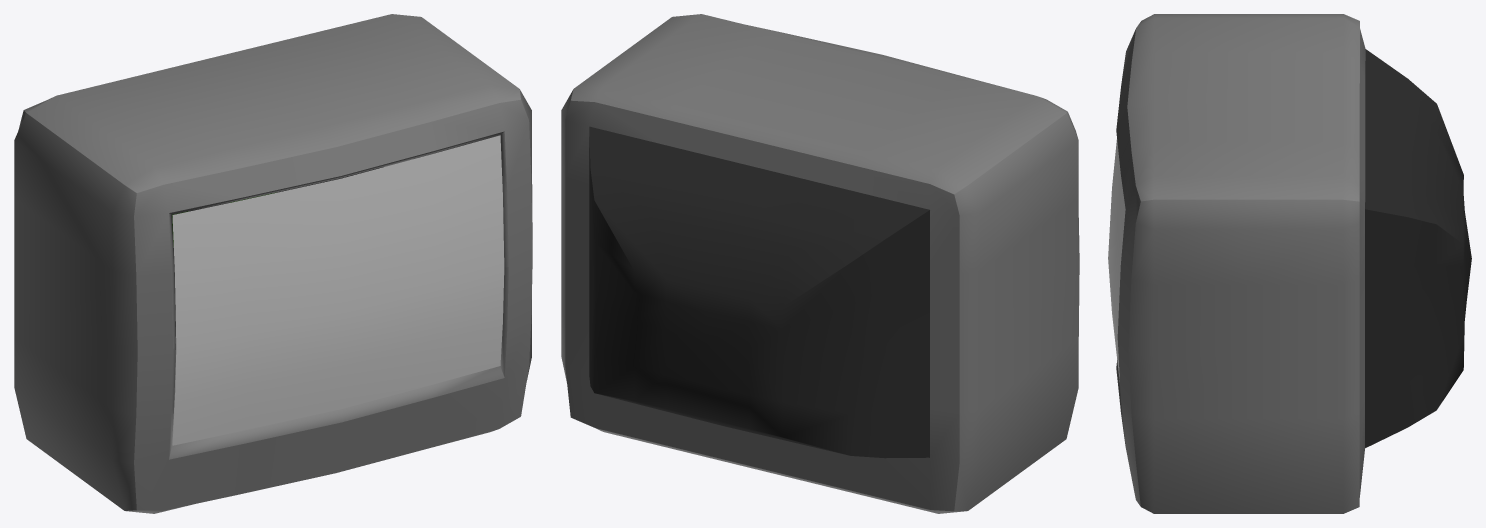
3 renders of one model, left to right at view 1: azimuth 30°, elevation 25°; view 2: azimuth 150°, elevation 25°; view 3: azimuth 270°, elevation 25°, orthographic. The views are drawn at different scales.
Parts seen in each view (by area): view 1: TV_Frame, TV_Lens; view 2: TV_Frame, TV_Btm; view 3: TV_Frame, TV_Btm, TV_Lens.
Boxes of the visible parts, bbox=[...] form: TV_Frame: bbox=[14, 14, 532, 513]; TV_Lens: bbox=[172, 135, 504, 445]; TV_Frame: bbox=[561, 14, 1079, 513]; TV_Btm: bbox=[589, 126, 929, 458]; TV_Frame: bbox=[1116, 14, 1365, 513]; TV_Btm: bbox=[1365, 49, 1471, 448]; TV_Lens: bbox=[1108, 139, 1125, 381].
Size of the model in its own units: 276 by 218 by 215.
